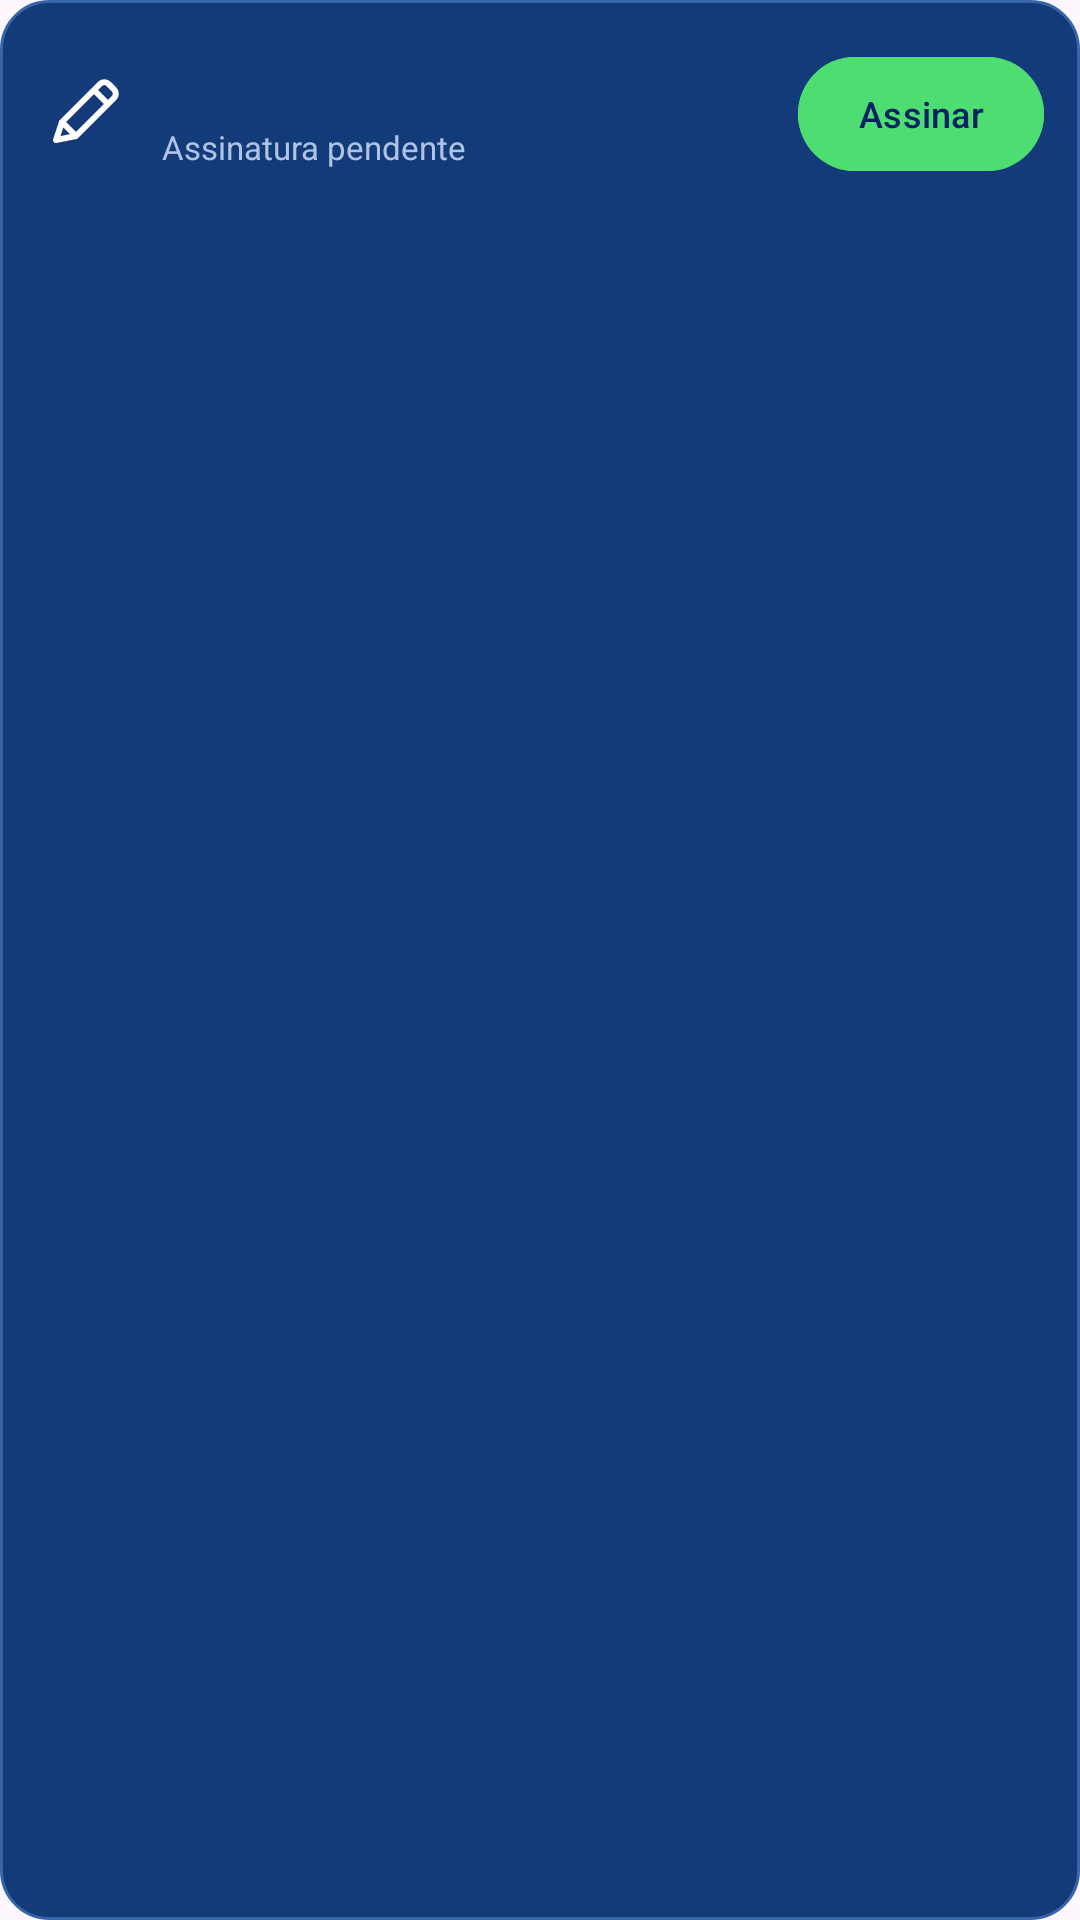

Screen size 1080w x 1920h. Icon name, then its center in pixels as (x=x, y=y):
Desenhar assinatura: (x=86, y=111)
